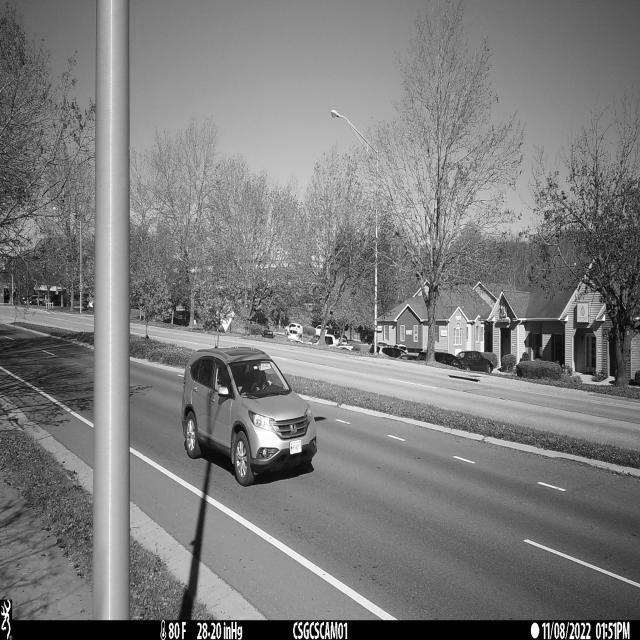SUV: (182, 343, 317, 486)
